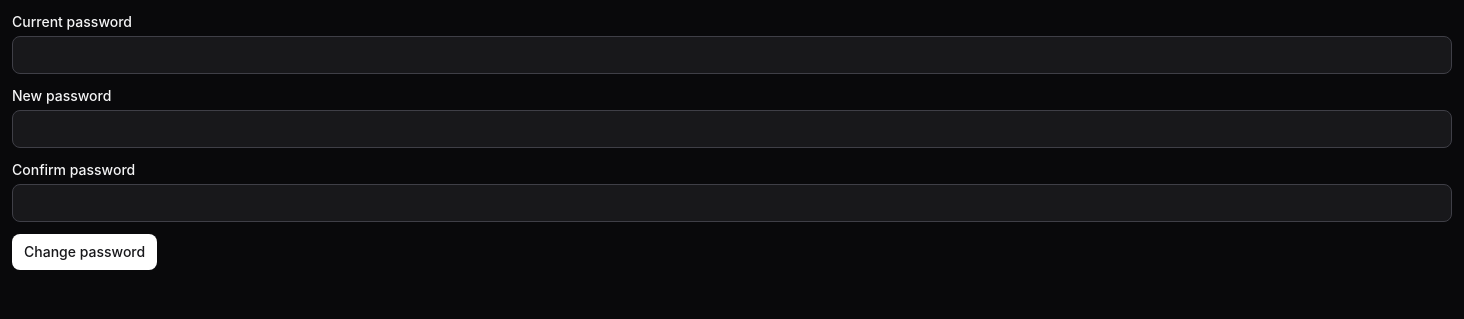
Test: ChangePasswordForm › changes the password via authClient.changePassword and clears the fields
This screenshot has width=1464, height=319.
Step 1. Type "old-password-123" into the password field labelled "Current password" → x=732, y=55, box x1=12 y1=36 x2=1452 y2=74
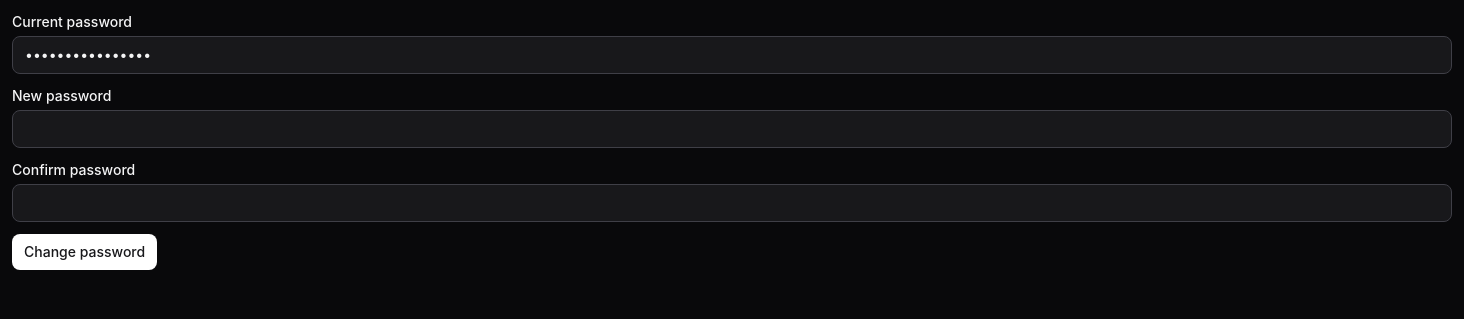
Step 2. Type "new-password-456" into the password field labelled "New password" → x=732, y=129, box x1=12 y1=110 x2=1452 y2=148
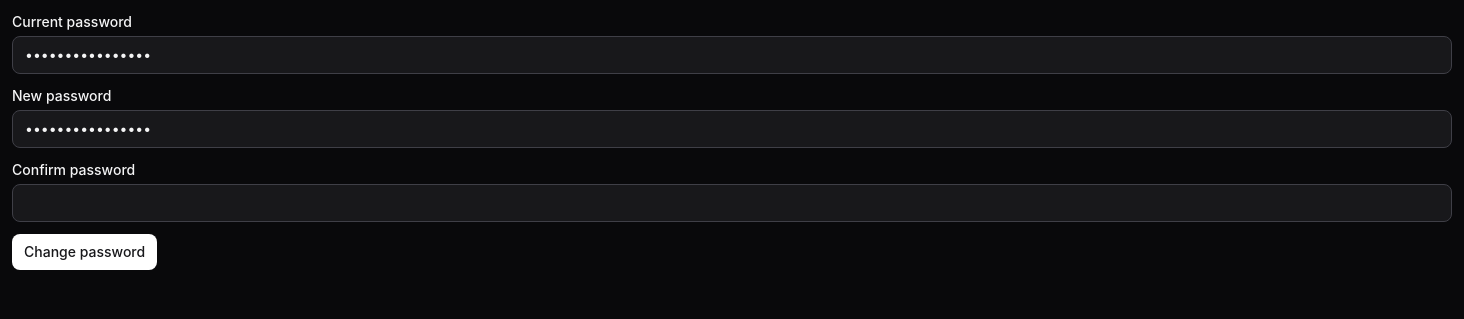
Step 3. Type "new-password-456" into the password field labelled "Confirm password" → x=732, y=203, box x1=12 y1=184 x2=1452 y2=222
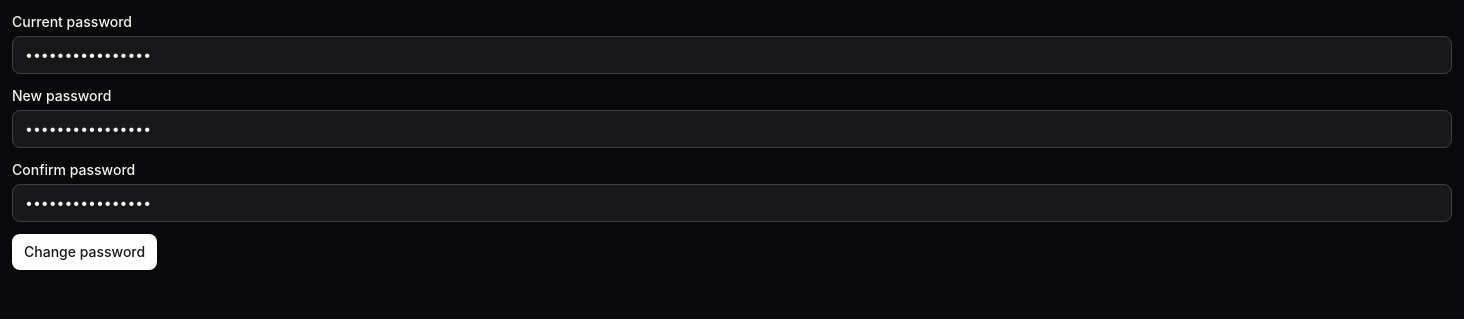
Step 4. Click the button "Change password" → x=85, y=252, box x1=12 y1=234 x2=157 y2=270
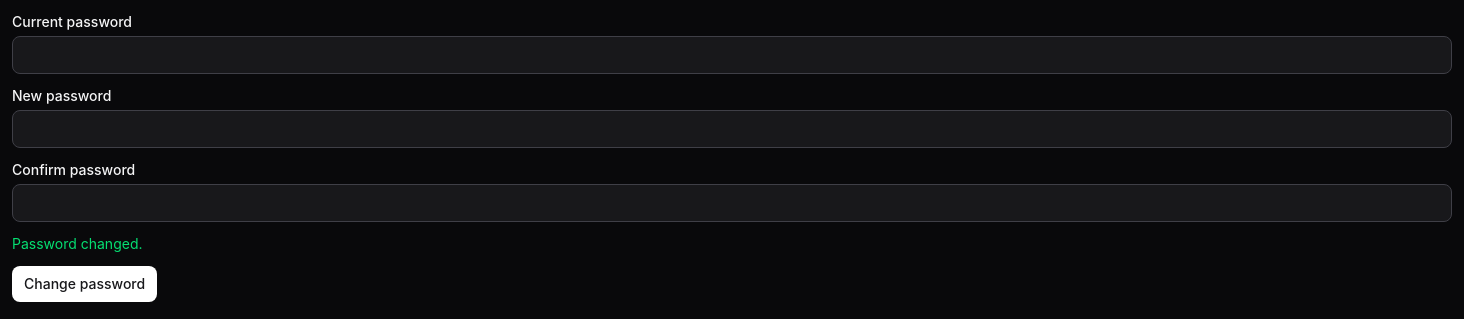
Now the message reads "Password changed.", box x1=12 y1=235 x2=142 y2=252
Now the password field labelled "Current password" is empty, box x1=12 y1=36 x2=1452 y2=74
